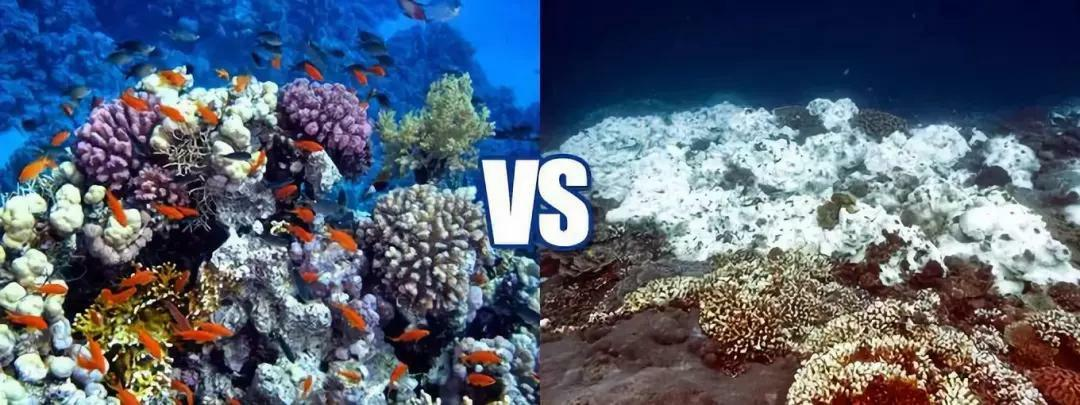bleached_corals: (702, 250, 1048, 405)
